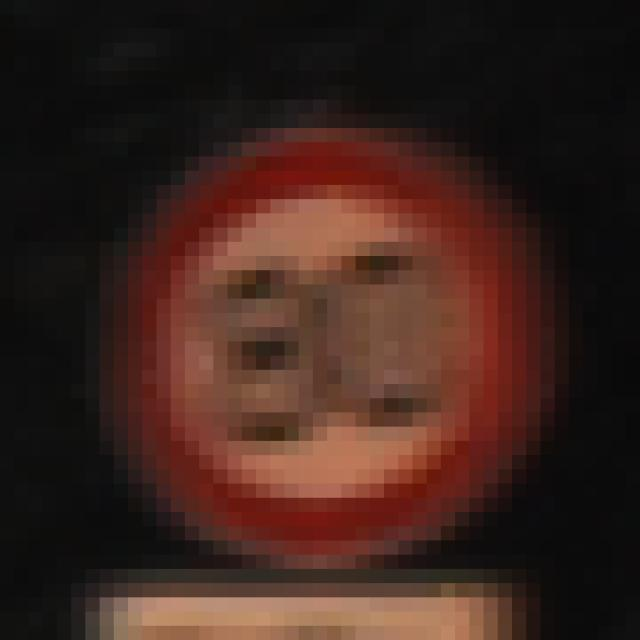Ograniczenie predkosci do 80: (109, 111, 549, 569)
